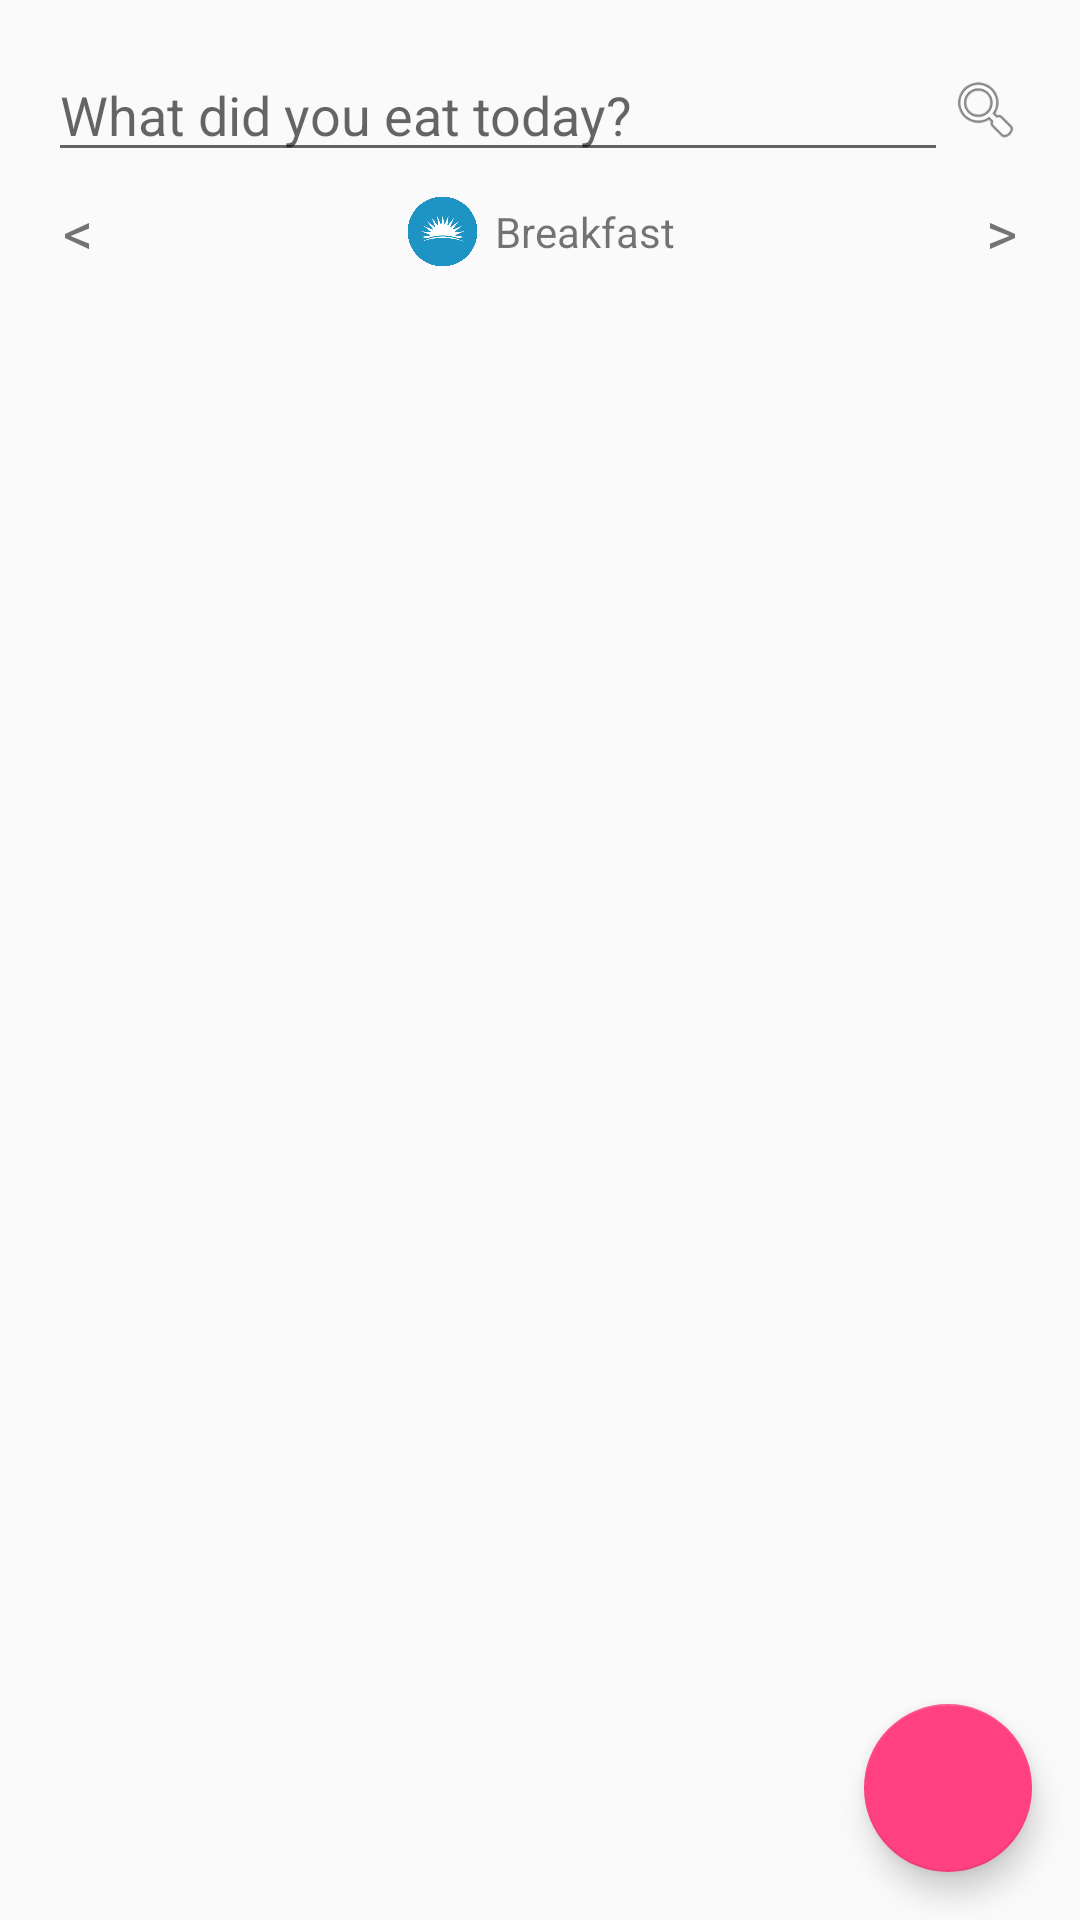

Icons on this 1080*1920 Android screen, each with its box as (x1, y1, x2, y2):
search: (958, 82, 1013, 138)
